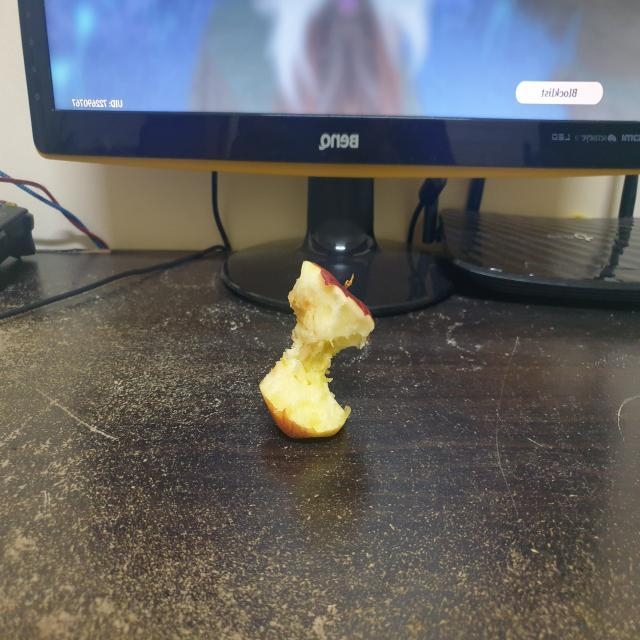apple: (254, 250, 373, 447)
